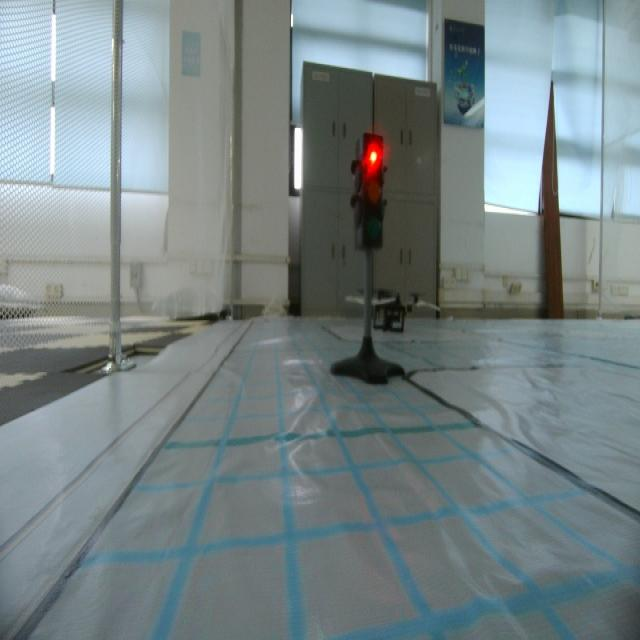green: (349, 125, 390, 264)
